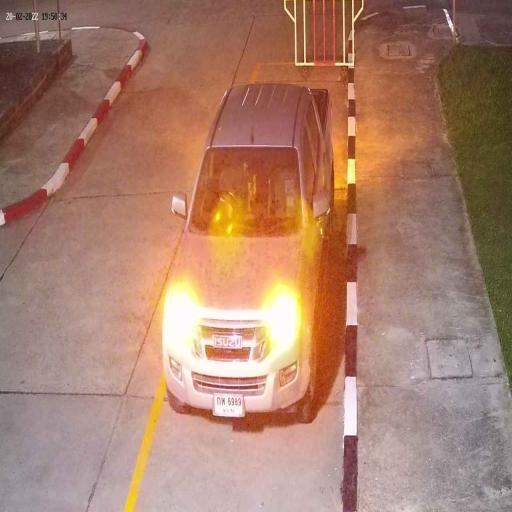car: (162, 82, 335, 418)
